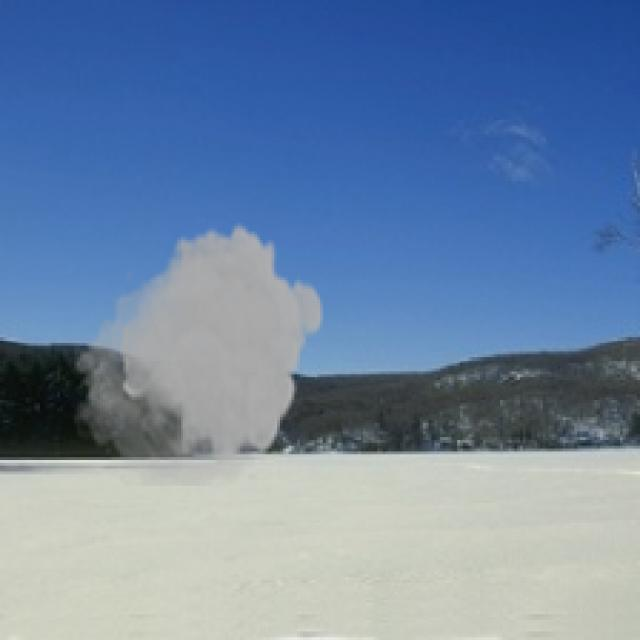smoke: (66, 220, 326, 486)
